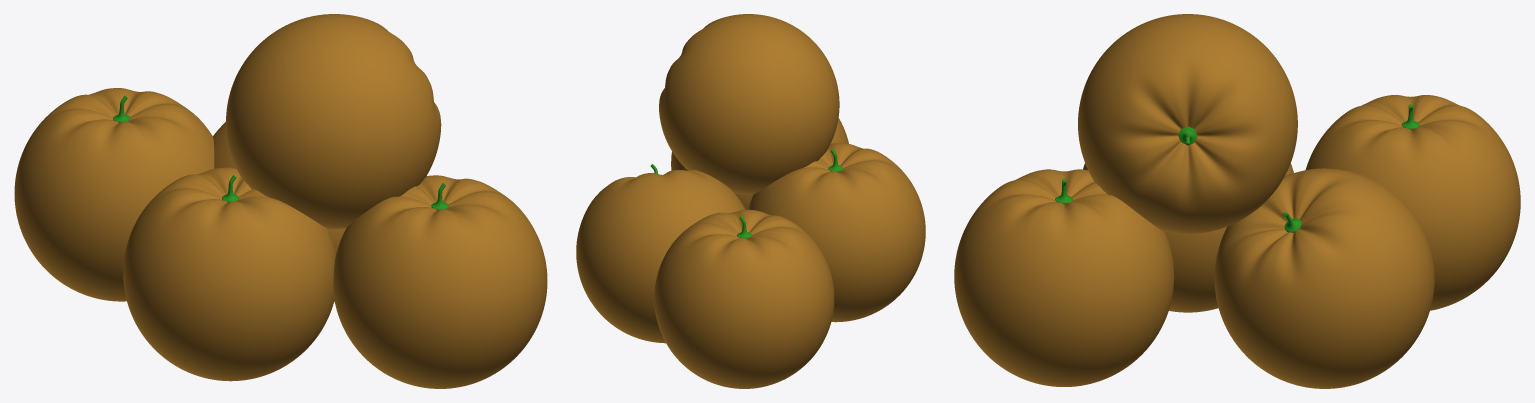
Rendered from OrangeGoup.fbx.
The picture shows the model from 3 angles, left to right: view 1: azimuth 30°, elevation 25°; view 2: azimuth 150°, elevation 25°; view 3: azimuth 270°, elevation 25°; orthographic projection. The views are drawn at different scales.
Parts seen in each view (by area): view 1: Sphere, Sphere.004, Sphere.002, Sphere.003, Sphere.001; view 2: Sphere.003, Sphere.004, Sphere.002, Sphere.001, Sphere; view 3: Sphere.004, Sphere.001, Sphere, Sphere.003, Sphere.002.
Boxes of the visible parts, box(x1,y1,x2,y2) form: Sphere: box(333, 175, 547, 388); Sphere.004: box(226, 14, 441, 228); Sphere.002: box(123, 167, 336, 381); Sphere.003: box(14, 88, 214, 301); Sphere.001: box(213, 122, 346, 301); Sphere.003: box(654, 209, 834, 388); Sphere.004: box(659, 14, 839, 194); Sphere.002: box(748, 143, 925, 322); Sphere.001: box(576, 170, 745, 343); Sphere: box(671, 118, 848, 209); Sphere.004: box(1078, 14, 1297, 233); Sphere.001: box(1214, 168, 1434, 388); Sphere: box(954, 169, 1174, 386); Sphere.003: box(1305, 95, 1520, 310); Sphere.002: box(1083, 163, 1293, 312).
Bounding box in the file's own units: 356 × 335 × 508.
